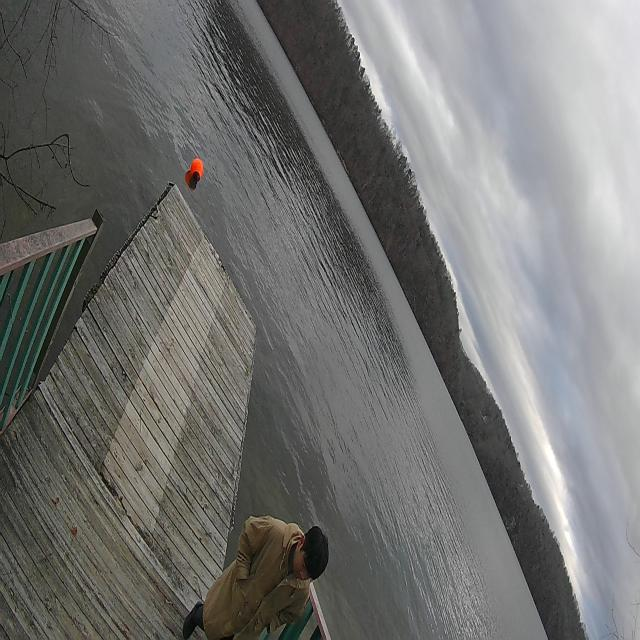Buoy: (189, 156, 205, 188)
